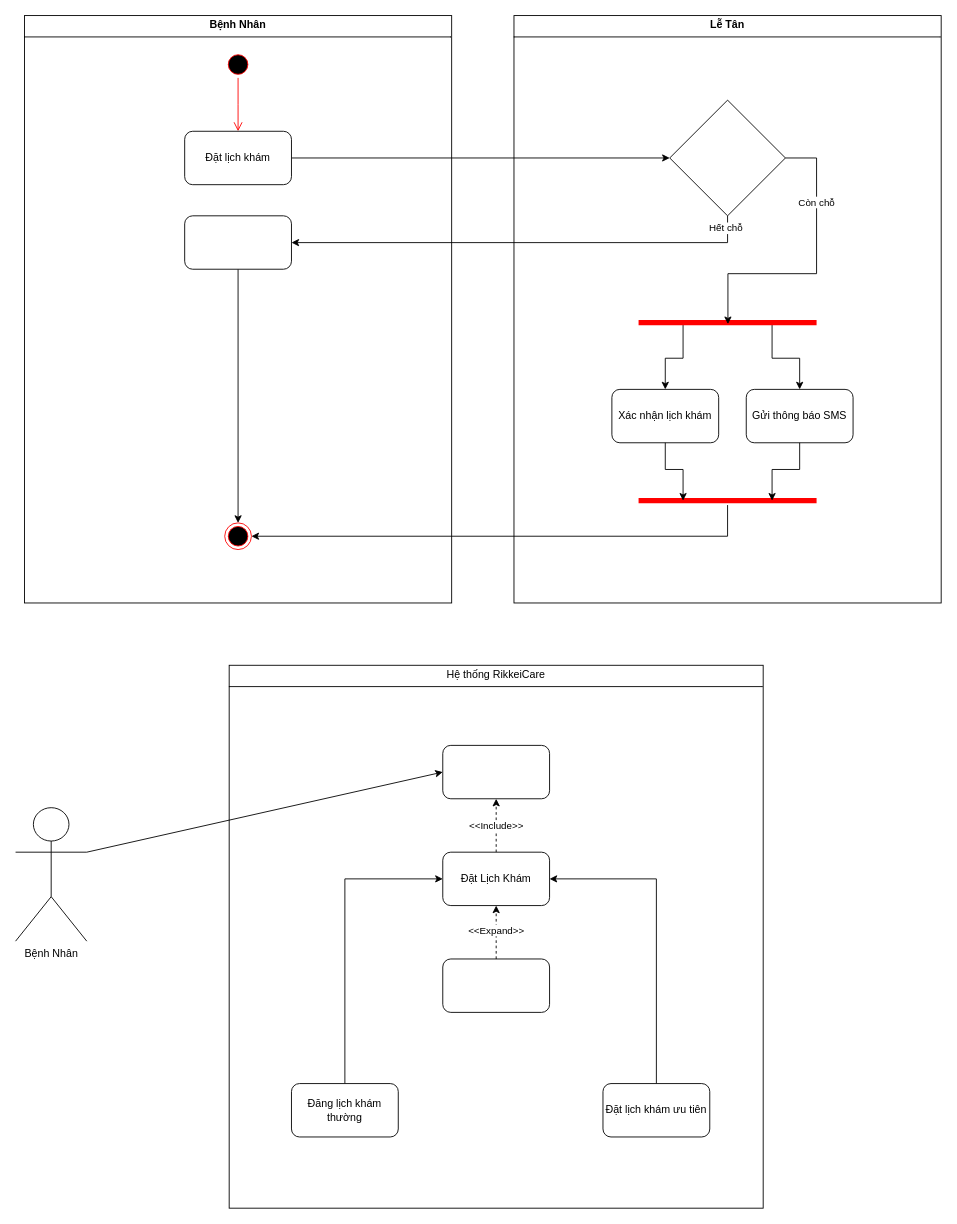
Image size: 957x1224. Some labels were removed from this diagram. Here are the shapes that lost their labels. From the top down, the centre of each, then its label:
the point at 727,157: Kiểm tra khung giờ
the point at 237,242: Báo khung giờ khác
the point at 496,771: Đăng Nhập
the point at 496,985: Chọn bác sĩ chỉ định
